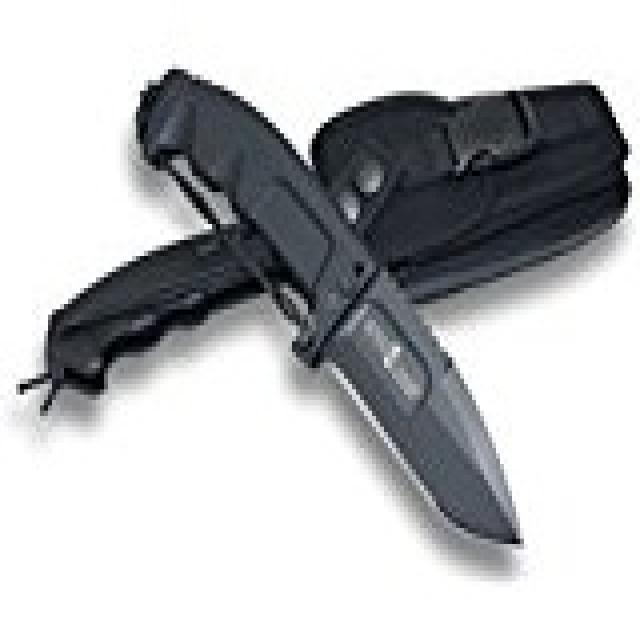knife: (134, 55, 531, 563)
